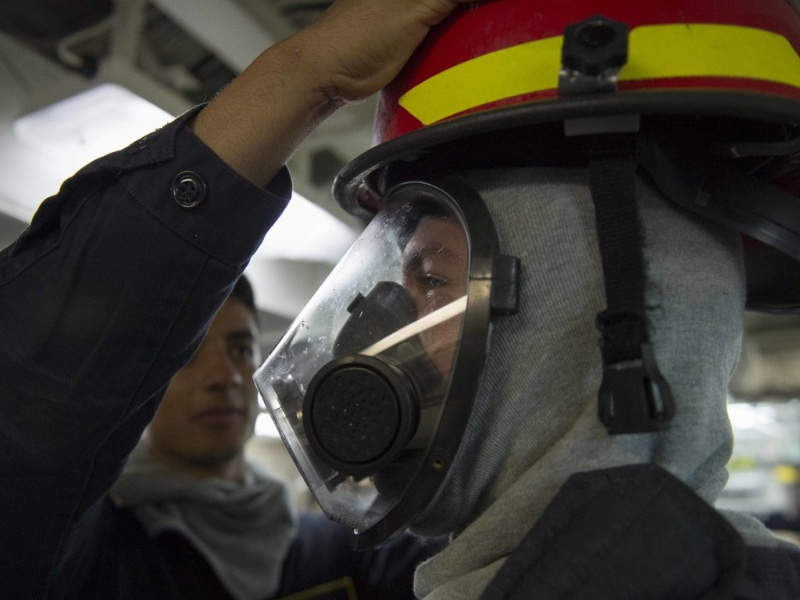helmet: (349, 3, 800, 169)
